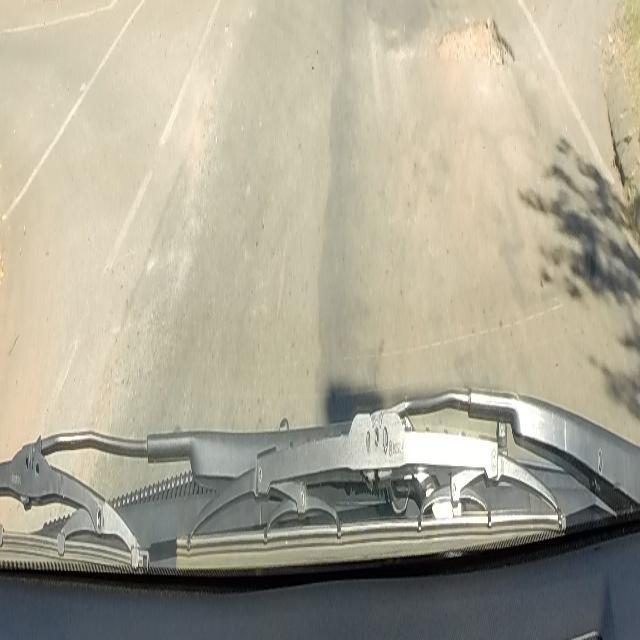pothole: (436, 13, 516, 82)
